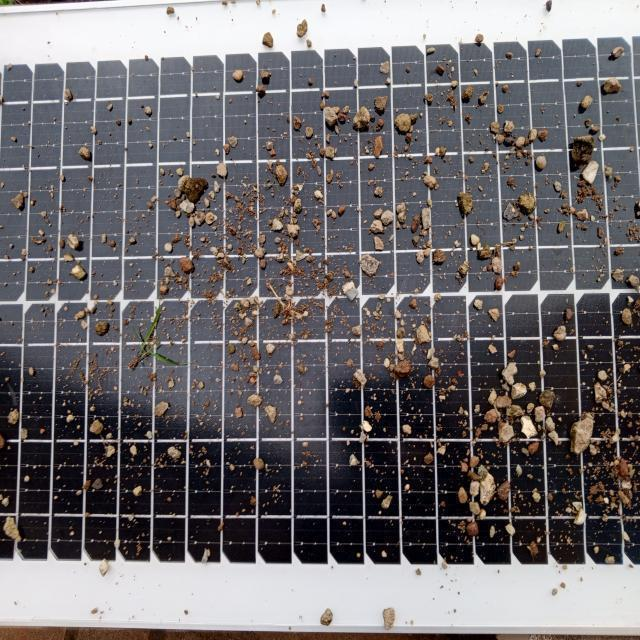Anomaly Solar Panel: (0, 29, 639, 617)
Surface Contaminant: (0, 29, 639, 617)
